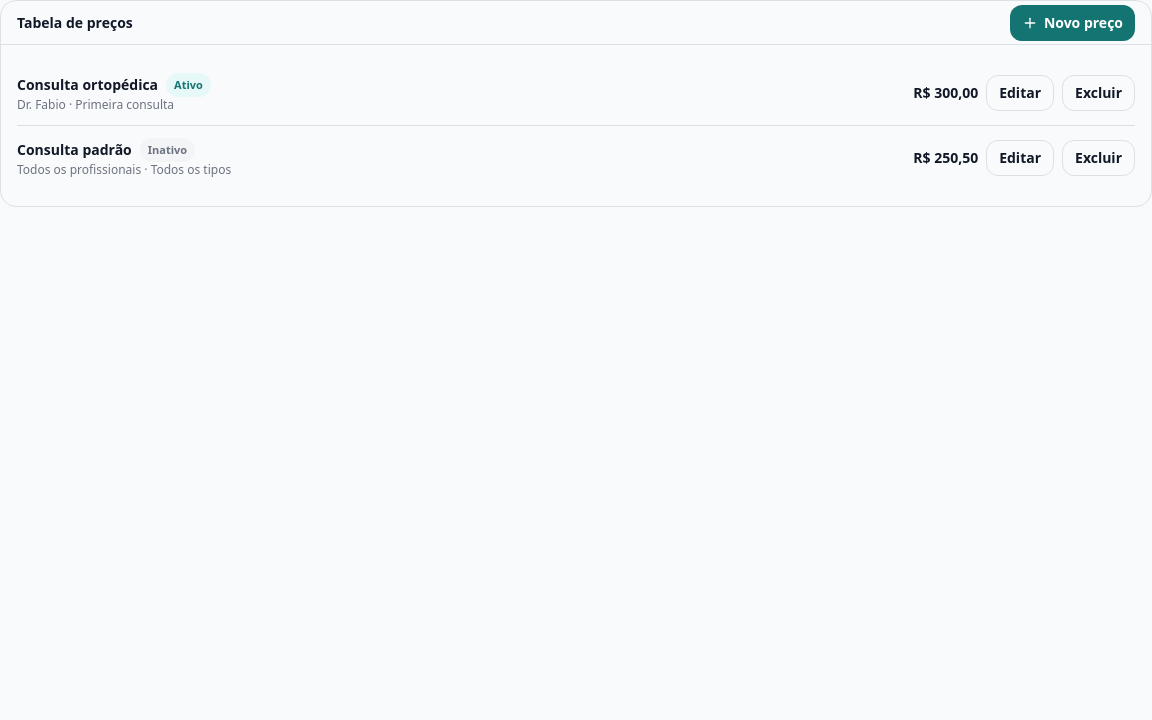
it: ServicePricesSection › exclui após confirmar
The width and height of the screenshot is (1152, 720).
Step 1. Click the button with aria-label "Excluir Consulta padrão" → (1098, 158), box [1062,140,1135,176]
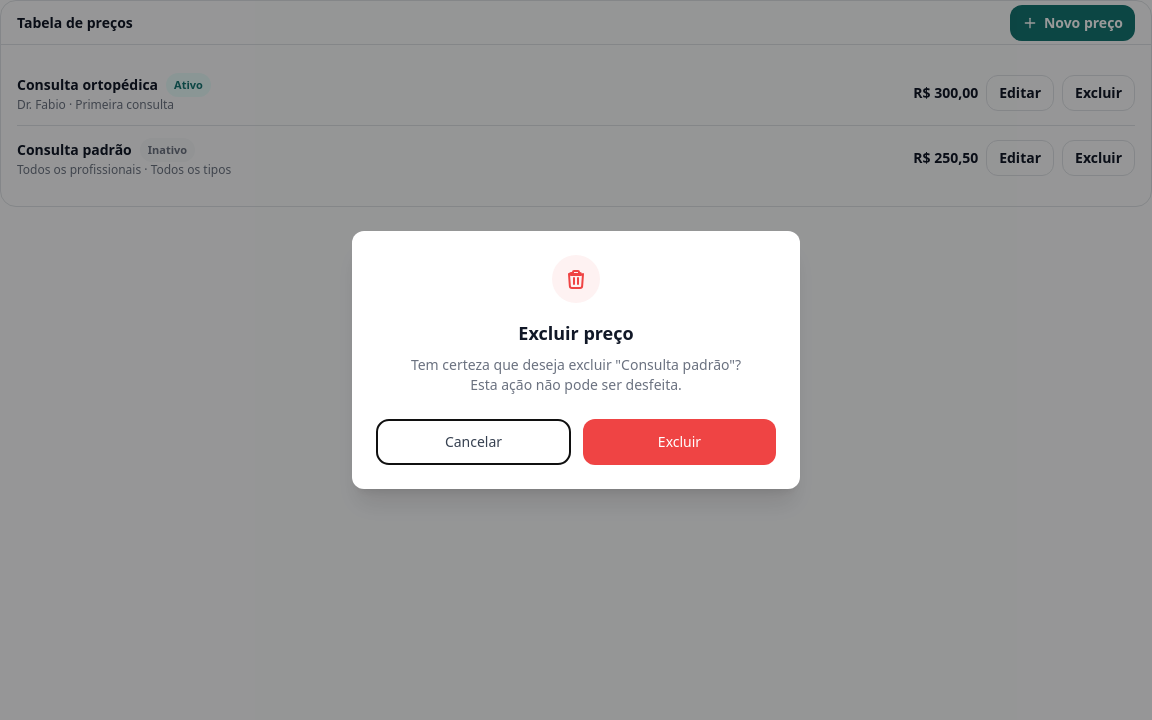
Check: the text "Consulta padrão" is shown, box [411,355,741,374]
Step 2. Click the button "Excluir" → (680, 442), box [583,419,776,465]
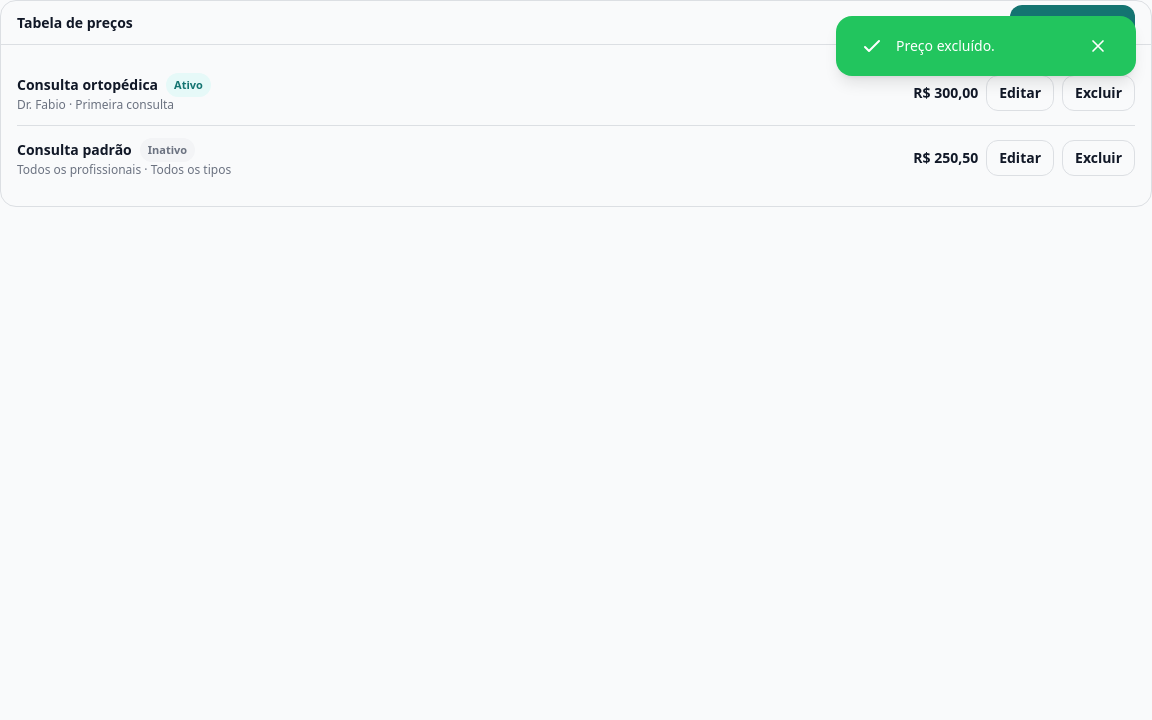
Check: the text "Preço excluído." is shown, box [896,36,995,55]
